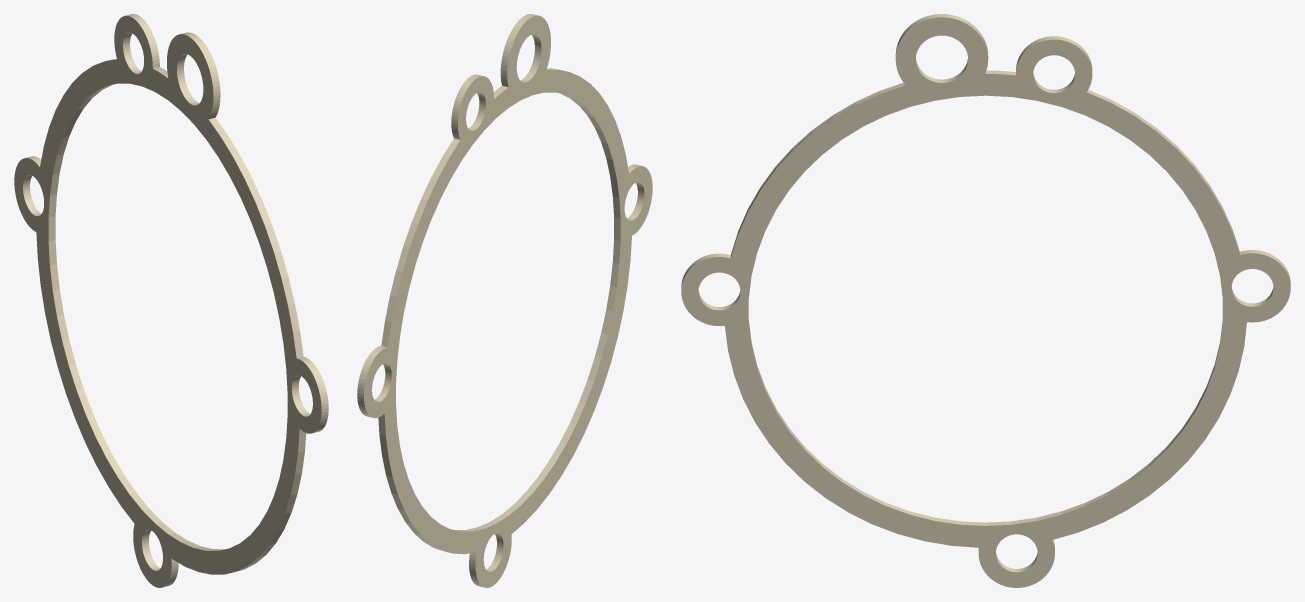
File: water-pump-gasket.glb
3 renders of one model, left to right at view 1: azimuth 30°, elevation 25°; view 2: azimuth 150°, elevation 25°; view 3: azimuth 270°, elevation 25°, orthographic. The views are drawn at different scales.
Visible parts, largest first — view 1: world; view 2: world; view 3: world.
Part boxes in pixels (box(x1,y1,x2,y2)): world: box(14, 14, 328, 587); world: box(357, 14, 652, 587); world: box(681, 14, 1290, 587).
Size of the model in its own units: 0.002 by 0.1565 by 0.1515.
